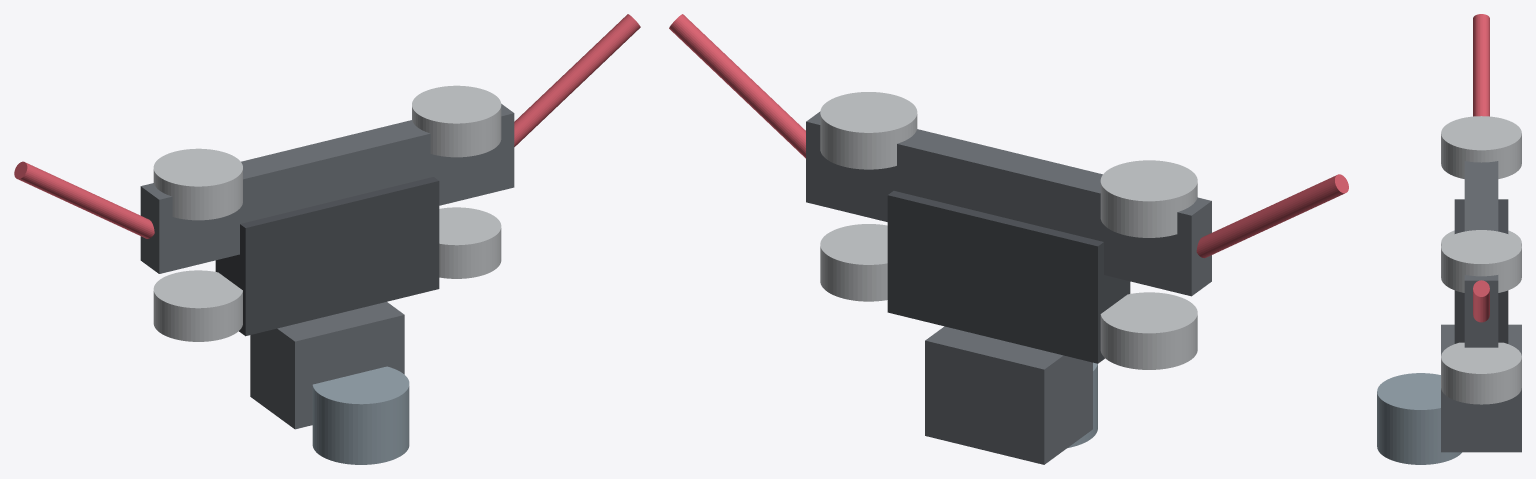
Rendered from wirecam.glb.
3 renders of one model, left to right at view 1: azimuth 30°, elevation 25°; view 2: azimuth 150°, elevation 25°; view 3: azimuth 270°, elevation 25°, orthographic. The views are drawn at different scales.
Visible parts, largest first — view 1: part_1, part_0, part_6, part_7, part_4, part_3, part_2, part_5, part_9, part_8; view 2: part_1, part_0, part_6, part_4, part_2, part_3, part_5, part_9, part_8; view 3: part_7, part_6, part_5, part_0, part_2, part_3, part_1, part_8, part_9.
Part boxes in pixels (x1,y1,x2,y2): part_1: (215, 177, 439, 336); part_0: (140, 104, 514, 273); part_6: (250, 302, 404, 429); part_7: (312, 366, 409, 464); part_4: (153, 270, 242, 341); part_3: (412, 85, 501, 157); part_2: (153, 148, 242, 220); part_5: (439, 207, 501, 278); part_9: (514, 14, 640, 146); part_8: (14, 161, 154, 238); part_1: (887, 191, 1130, 363); part_0: (806, 111, 1211, 296); part_6: (925, 326, 1092, 464); part_4: (1100, 292, 1197, 369); part_2: (1100, 160, 1197, 237); part_3: (820, 92, 917, 169); part_5: (820, 224, 887, 301); part_9: (669, 14, 805, 158); part_8: (1196, 174, 1348, 258); part_7: (1377, 373, 1461, 464); part_6: (1441, 324, 1521, 452); part_5: (1441, 342, 1521, 404); part_0: (1464, 161, 1498, 347); part_2: (1441, 116, 1521, 178); part_3: (1441, 230, 1521, 292); part_1: (1454, 199, 1508, 343); part_8: (1473, 14, 1489, 116); part_9: (1473, 280, 1489, 322).
Bounding box in the file's own units: 1.93 × 0.9807 × 0.43.
